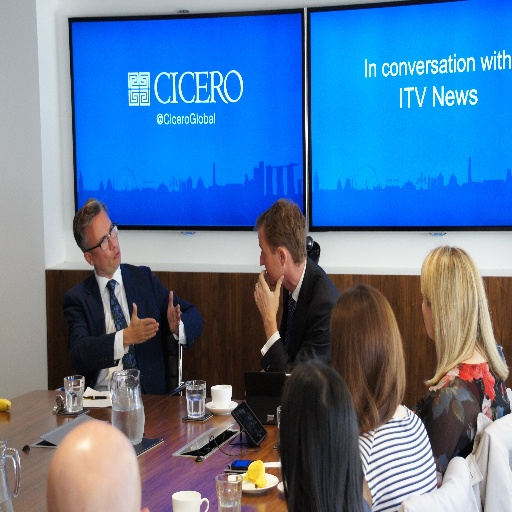hand: (253, 267, 285, 321), (125, 316, 161, 341), (165, 287, 180, 336)
